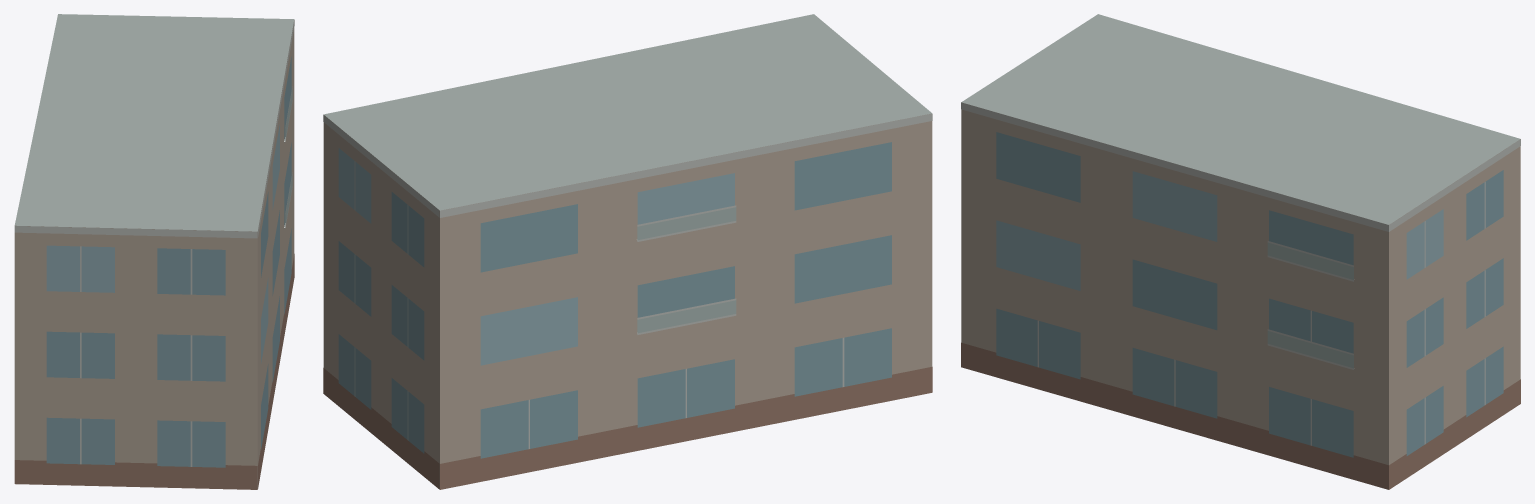
Rendered from survey-upis-32527406.glb.
3 renders of one model, left to right at view 1: azimuth 30°, elevation 25°; view 2: azimuth 150°, elevation 25°; view 3: azimuth 270°, elevation 25°, orthographic. The views are drawn at different scales.
Visible parts, largest first — view 1: survey-upis-32527406.tmp; view 2: survey-upis-32527406.tmp; view 3: survey-upis-32527406.tmp.
Part boxes in pixels (x1,y1,x2,y2): survey-upis-32527406.tmp: (14, 14, 294, 489); survey-upis-32527406.tmp: (323, 14, 932, 489); survey-upis-32527406.tmp: (961, 14, 1520, 489).
Bounding box in the file's own units: 15.64 × 9.15 × 17.53.
